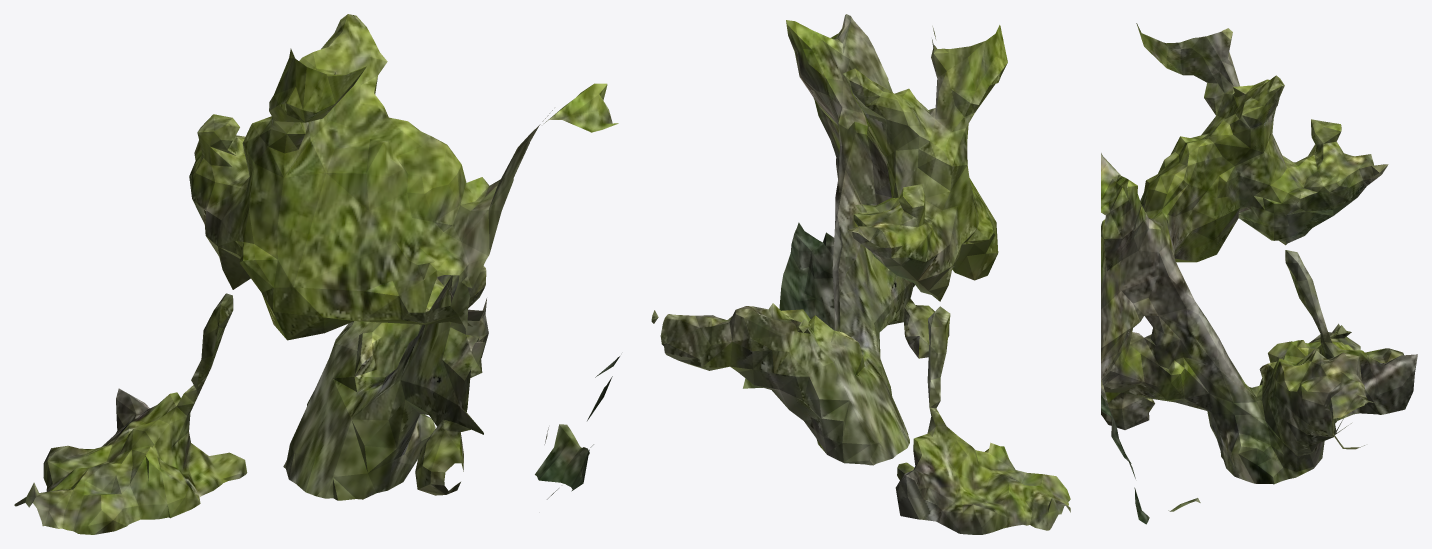
3 views of the same model, side by side, from view 1: azimuth 30°, elevation 25°; view 2: azimuth 150°, elevation 25°; view 3: azimuth 270°, elevation 25° (orthographic). The views are drawn at different scales.
Size of the model in its own units: 2.95 by 2.95 by 2.09.
Materials: 4 (4 with a texture image).
